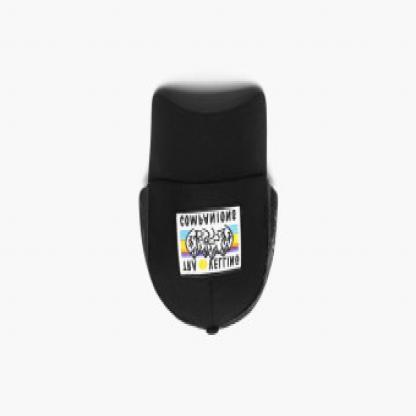cap: (131, 84, 283, 342)
